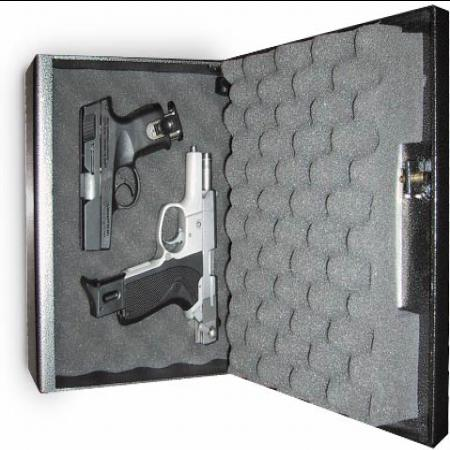Pistol: (119, 144, 221, 343), (81, 82, 171, 255)
